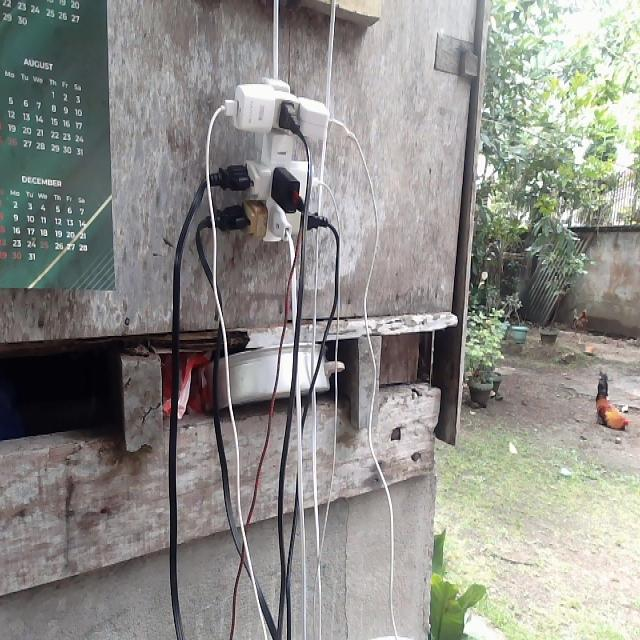-: (206, 72, 332, 244)
